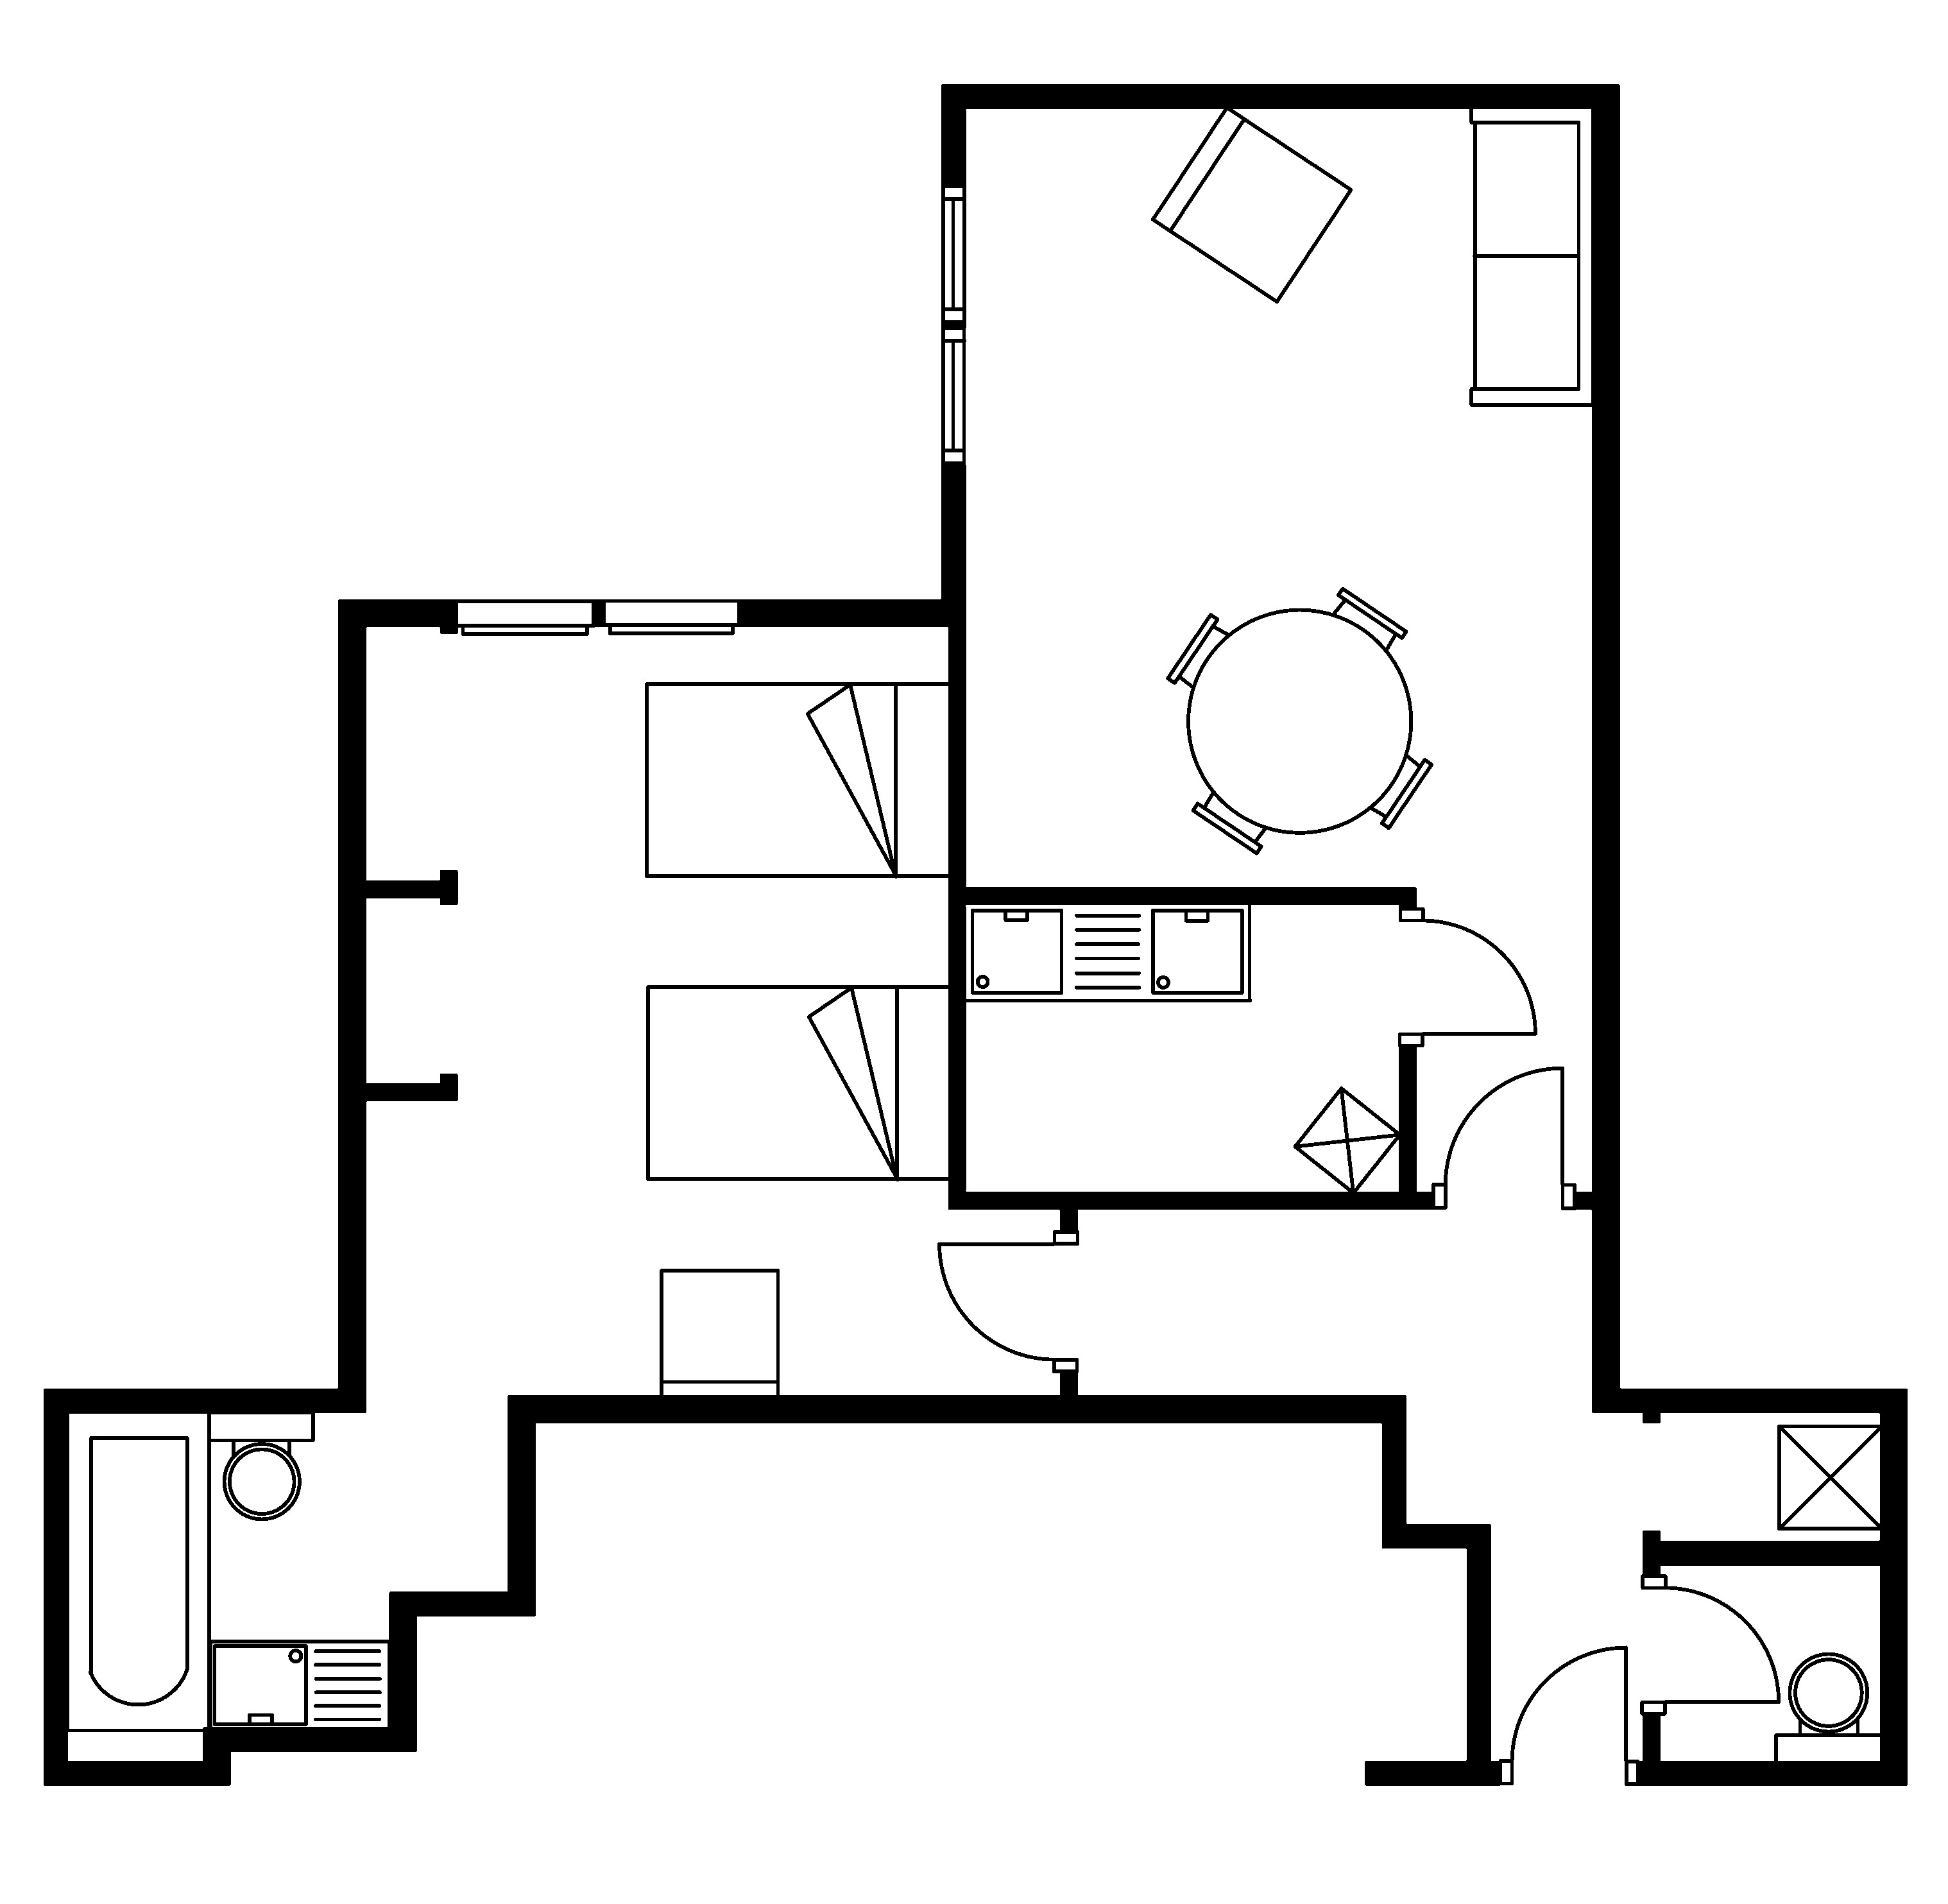bed: (644, 680, 952, 879), (645, 983, 954, 1182)
coffee_table: (1292, 1086, 1402, 1194), (1775, 1423, 1883, 1531)
large_sink: (1774, 1653, 1885, 1766), (206, 1411, 316, 1520)
large_sofa: (1468, 105, 1596, 406)
round_table: (1165, 586, 1434, 856)
sink: (208, 1639, 391, 1731)
small_sofa: (1149, 105, 1353, 303), (657, 1268, 780, 1402)
tub: (65, 1409, 211, 1733)
twin_sink: (961, 900, 1252, 1003)
